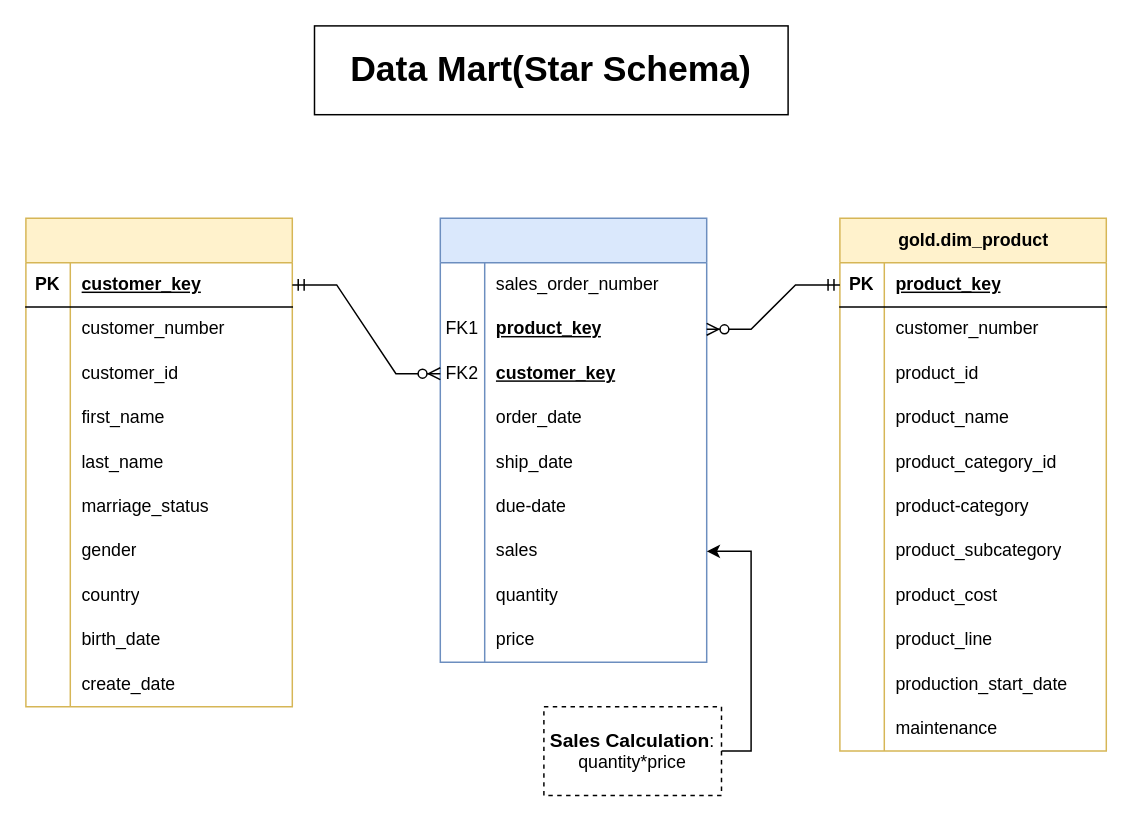
The diagram is 1132 pixels wide and 821 high, and some of its shapes have lost their labels. Here are the shapes that lost their labels. From the top down, the box of each, then its label:
(439, 217, 707, 662): gold.fact-sales
(24, 217, 292, 707): gold.dim_customer
